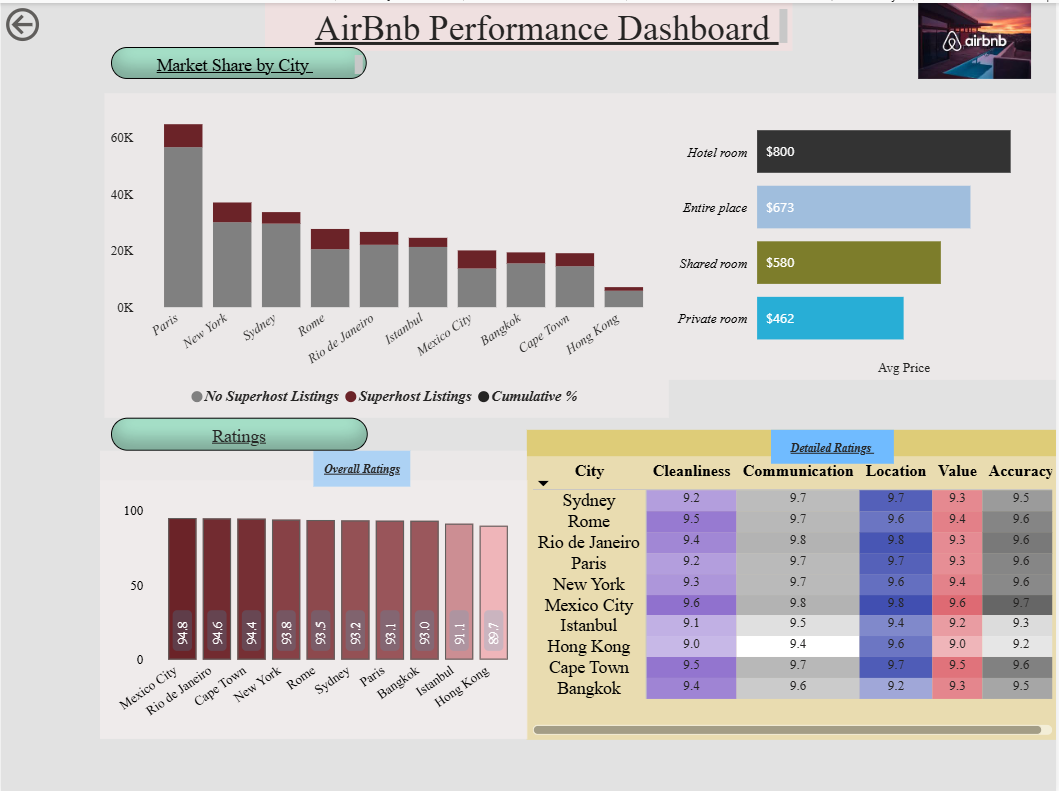

The page's visual inventory and layout, read from the dashboard file:
{"tool":"powerbi","page":{"name":"Ratings ","canvas":[960,720],"ordinal":1},"visuals":[{"type":"textbox","box":[240,0,480,44],"z":0},{"type":"image","box":[813.3,0,146.7,68.9],"z":1000},{"type":"textbox","box":[100.2,40.5,232.8,29.4],"z":2000},{"type":"columnChart","fields":{"Category":["Listings.city"],"Y":["Listings.No Superhost Listings","Listings.Superhost Listings","Listings.Cumulative %"]},"box":[94.1,82,513.3,295.6],"z":3000},{"type":"barChart","fields":{"Category":["Listings.room_type"],"Y":["Listings.Avg Price"]},"box":[607.4,82,352.3,261.2],"z":4000},{"type":"actionButton","box":[0,0,100,40],"z":5000},{"type":"columnChart","fields":{"Category":["Listings.city"],"Y":["Listings.Avg Ratings"]},"box":[90.1,434.5,388.7,235.7],"z":5000,"group":"g2"},{"type":"group","id":"g1","title":"Group 1","box":[478.8,388.7,480.9,282.4],"z":6000},{"type":"pivotTable","fields":{"Rows":["Listings.city"],"Values":["Listings.Cleanliness","Listings.Communication","Listings.Location","Listings.Value","Listings.Accuracy"]},"box":[478.8,412.8,482.9,258.4],"z":6000,"group":"g1"},{"type":"group","id":"g2","title":"Group 2","box":[90.1,407,388.7,263.2],"z":7000},{"type":"textbox","box":[701.3,388.7,111.8,30.7],"z":7001,"group":"g1"},{"type":"textbox","box":[283.9,407,88.4,32.4],"z":7003,"group":"g2"},{"type":"textbox","box":[100.1,377.4,233.3,30],"z":8000}]}

Visuals, with their boxes in screenshot pixels (x1, y1, x2, y2), scaled from the page's 960x720 canvas onto the 1059x791 screenshot:
textbox: (265, 0, 794, 48)
image: (897, 0, 1058, 76)
textbox: (111, 44, 367, 77)
columnChart - Listings.city x Listings.No Superhost Listings: (104, 90, 670, 415)
barChart - Listings.room_type x Listings.Avg Price: (670, 90, 1058, 377)
actionButton: (0, 0, 110, 44)
columnChart - Listings.city x Listings.Avg Ratings: (99, 477, 528, 736)
"Group 1" group: (528, 427, 1058, 737)
pivotTable - Listings.city x Listings.Cleanliness: (528, 454, 1058, 737)
"Group 2" group: (99, 447, 528, 736)
textbox: (774, 427, 897, 461)
textbox: (313, 447, 411, 483)
textbox: (110, 415, 368, 448)
